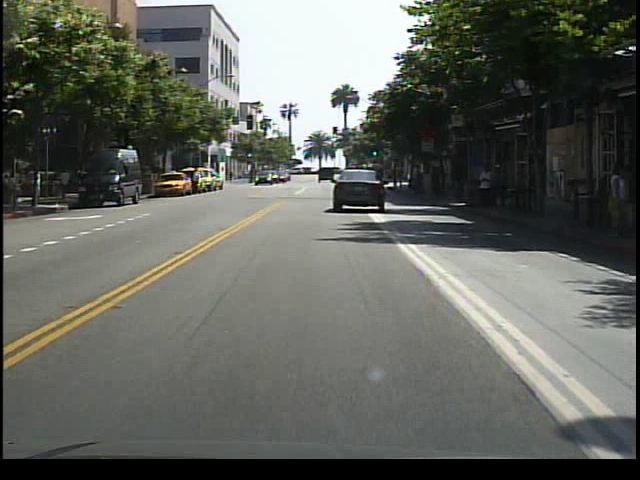person: (474, 161, 500, 217), (189, 162, 204, 197)
